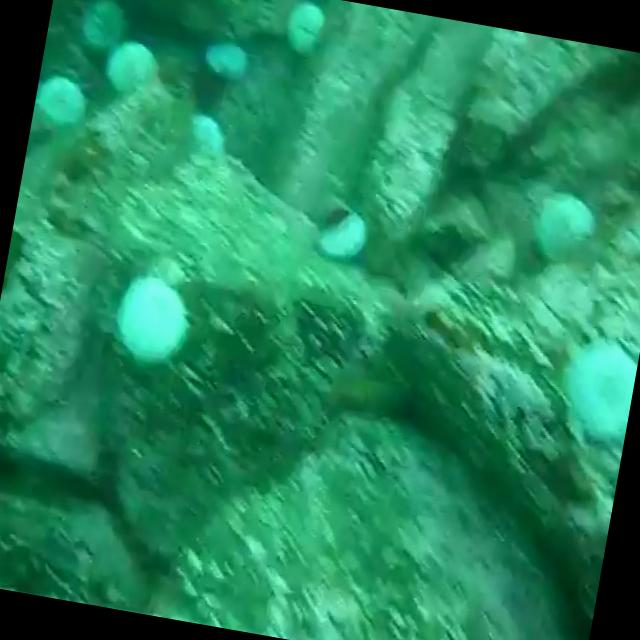Deniz Kestanesi: (551, 320, 640, 449), (106, 264, 209, 370), (524, 182, 606, 270), (313, 206, 387, 272), (196, 19, 262, 92), (29, 65, 92, 138), (104, 36, 160, 96), (183, 100, 236, 163), (280, 0, 328, 55)
